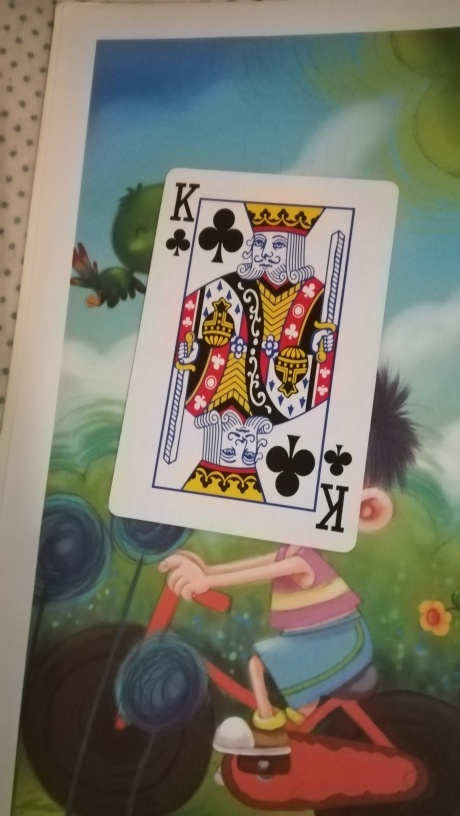mh k: (109, 165, 398, 552)
